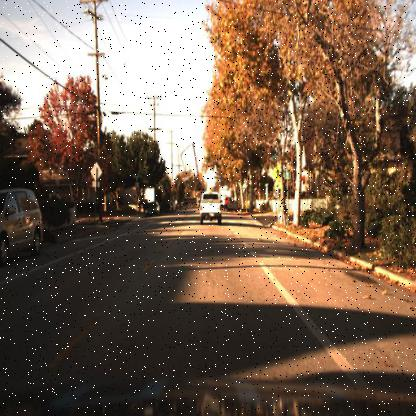car: (1, 186, 45, 268), (198, 184, 224, 224)
